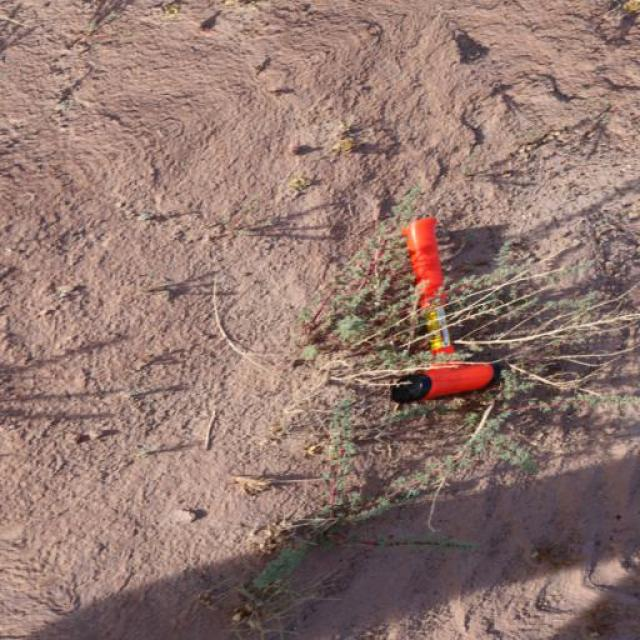mallet: (389, 215, 500, 405)
